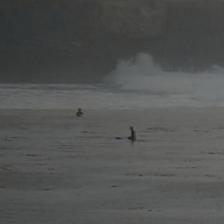surfer: (128, 126, 136, 142), (75, 108, 83, 117)
